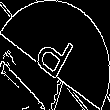P_SW: (31, 23, 79, 87)
